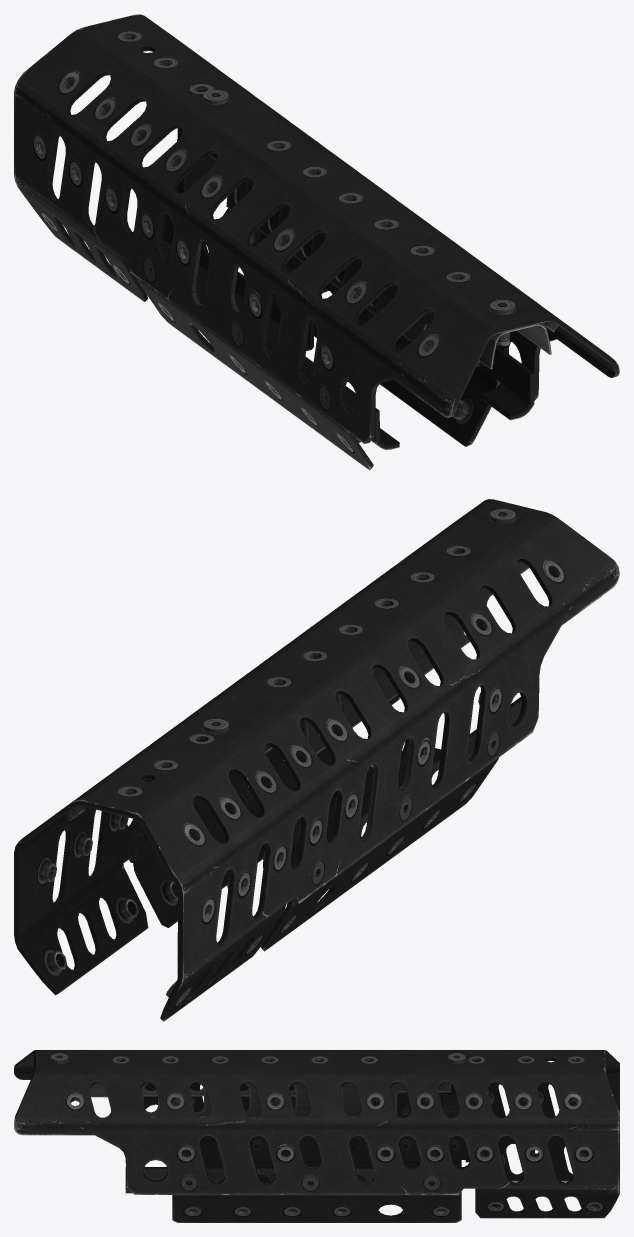
3 renders of one model, top to bottom at view 1: azimuth 30°, elevation 25°; view 2: azimuth 150°, elevation 25°; view 3: azimuth 270°, elevation 25°, orthographic. The views are drawn at different scales.
Visible parts, largest first — view 1: TW_66ffe811f5d758d71101e89a_PZ_Import; view 2: TW_66ffe811f5d758d71101e89a_PZ_Import; view 3: TW_66ffe811f5d758d71101e89a_PZ_Import.
Boxes of the visible parts, x1,y1,x2,y2 form: TW_66ffe811f5d758d71101e89a_PZ_Import: (14,14,619,470); TW_66ffe811f5d758d71101e89a_PZ_Import: (14,499,619,1021); TW_66ffe811f5d758d71101e89a_PZ_Import: (14,1050,619,1222).
Size of the model in its own units: 0.0314 by 0.1411 by 0.0385.
Materials: 1 (1 with a texture image).
